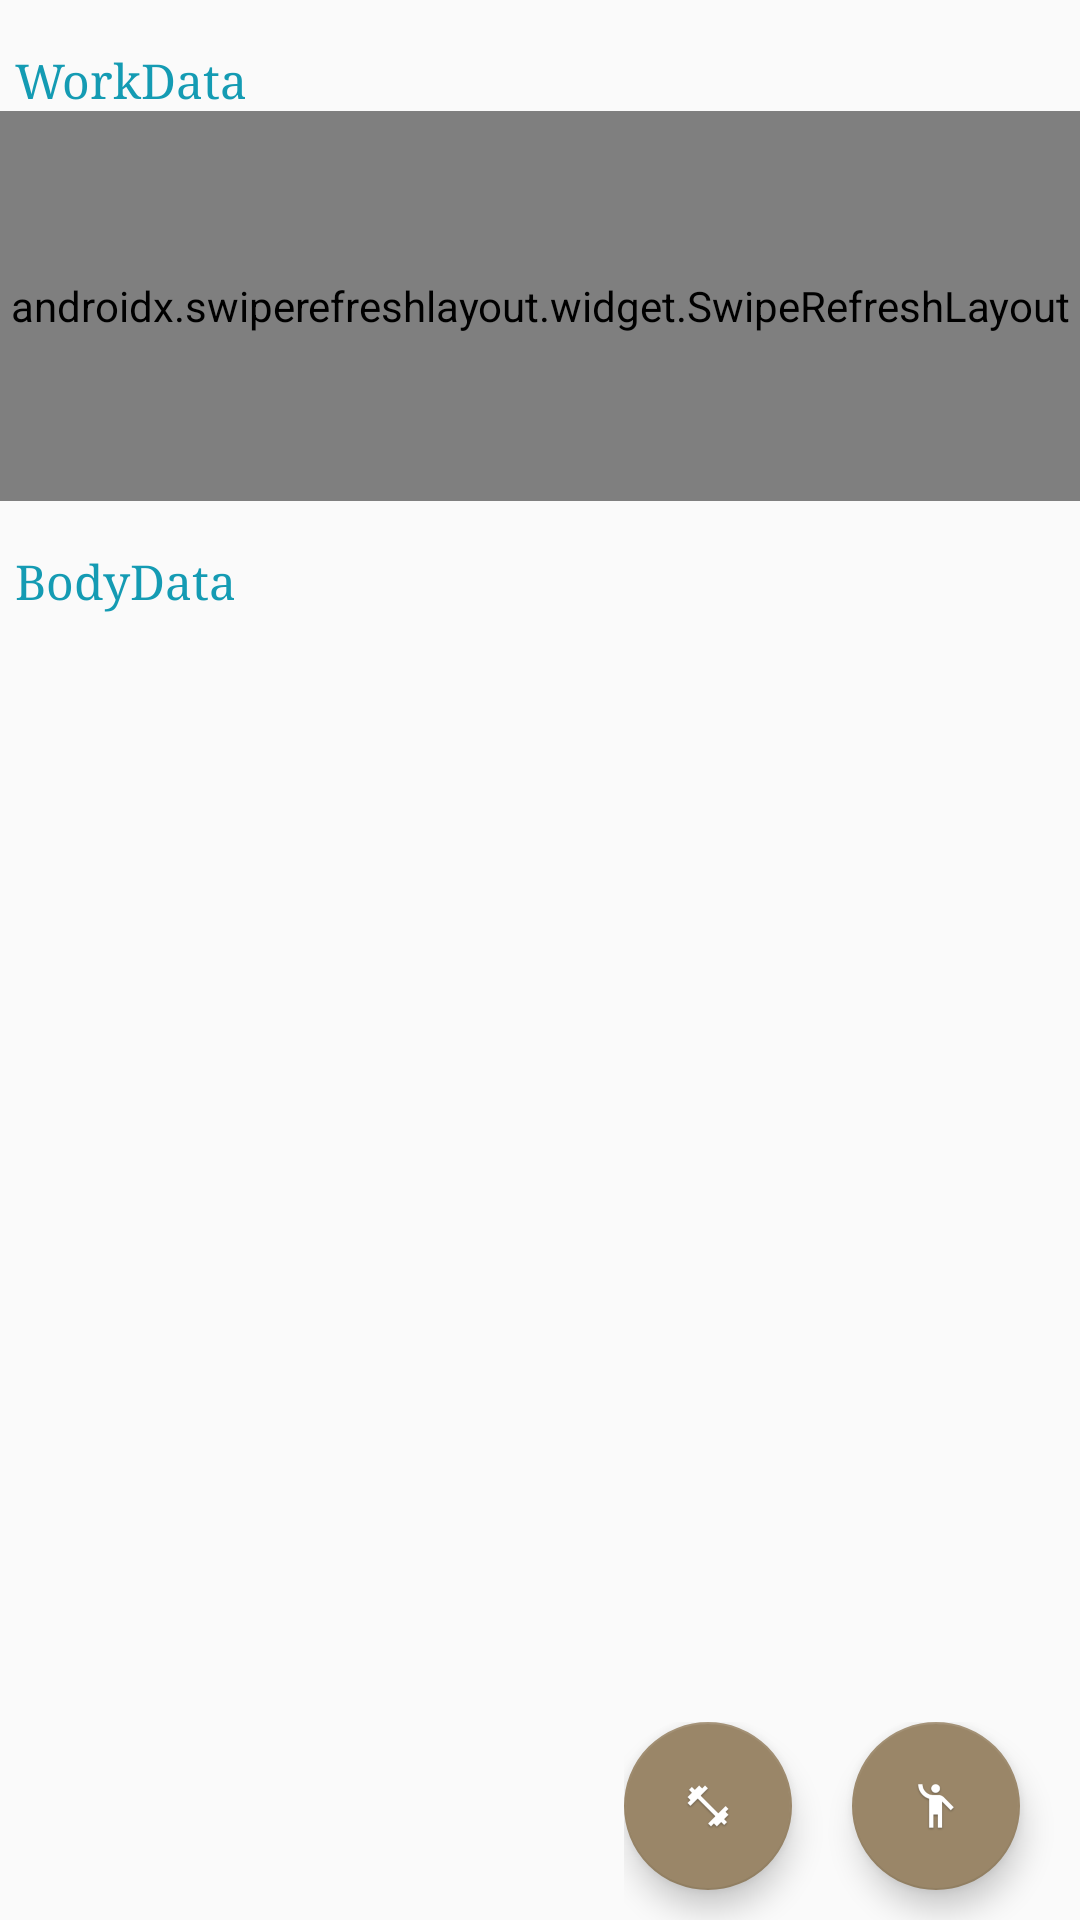

Where icons sit on this 1080×1920 app screen, as (x1, y1, x2, y2):
body data: (852, 1722, 1020, 1890)
work data: (624, 1722, 792, 1890)
